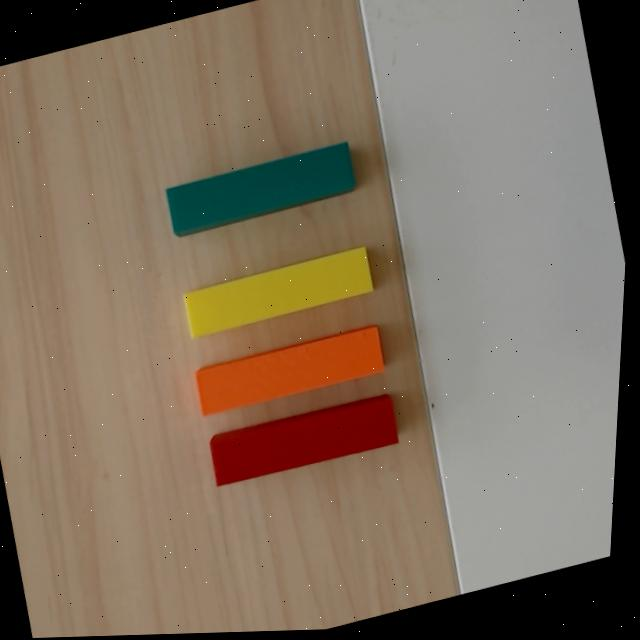Balok-Hijau-1002525: (162, 140, 359, 237)
Balok-Jingga-1002525: (191, 322, 388, 415)
Balok-Kuning-1002525: (180, 244, 377, 337)
Balok-Merah-1002525: (205, 391, 402, 485)
